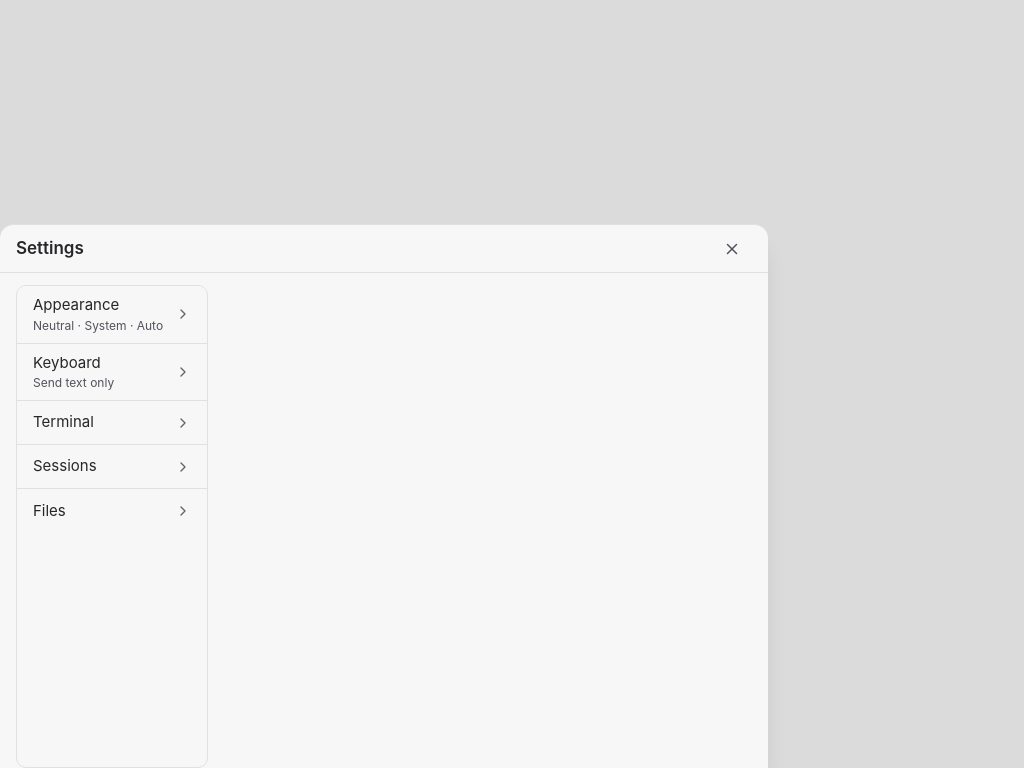
SettingsModal on a phone › opens one group with a way back, and goes back to the list on ‹
What coordinates should you click on to do the following:
click the button "Keyboard Send text only"
I would click on:
 (112, 372)
Its box is [17, 344, 207, 401].
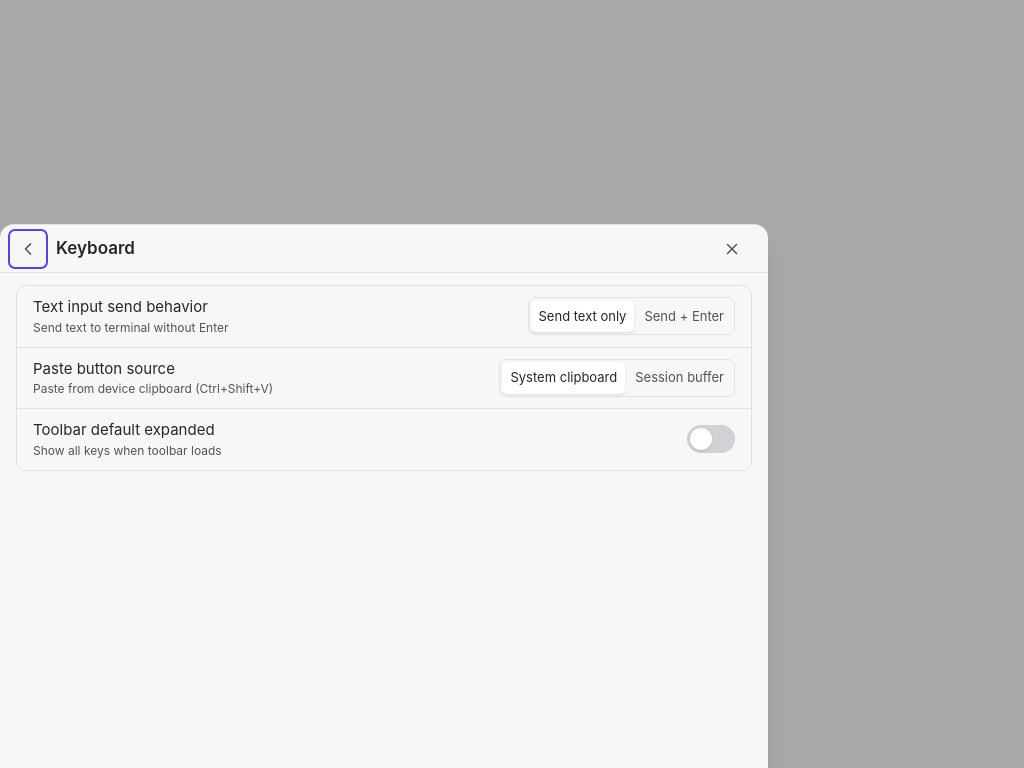
Expected: the 1st heading "Keyboard" is shown, [56, 236, 135, 261]
Expected: the element named "Text input send behavior" is shown, [528, 297, 735, 335]
What coordinates should you click on to do the following:
click the button named "Back to Settings"
I would click on:
 (28, 248)
Its box is [8, 228, 48, 268].
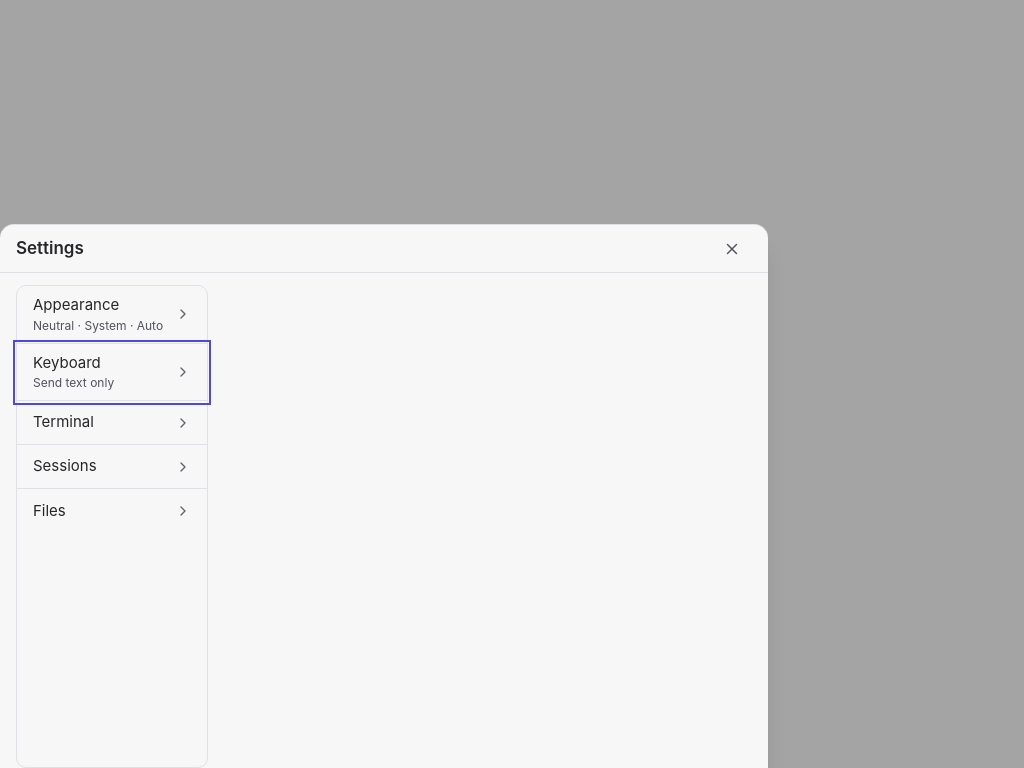
Expected: the navigation bar named "Settings groups" is shown, [16, 285, 208, 767]
